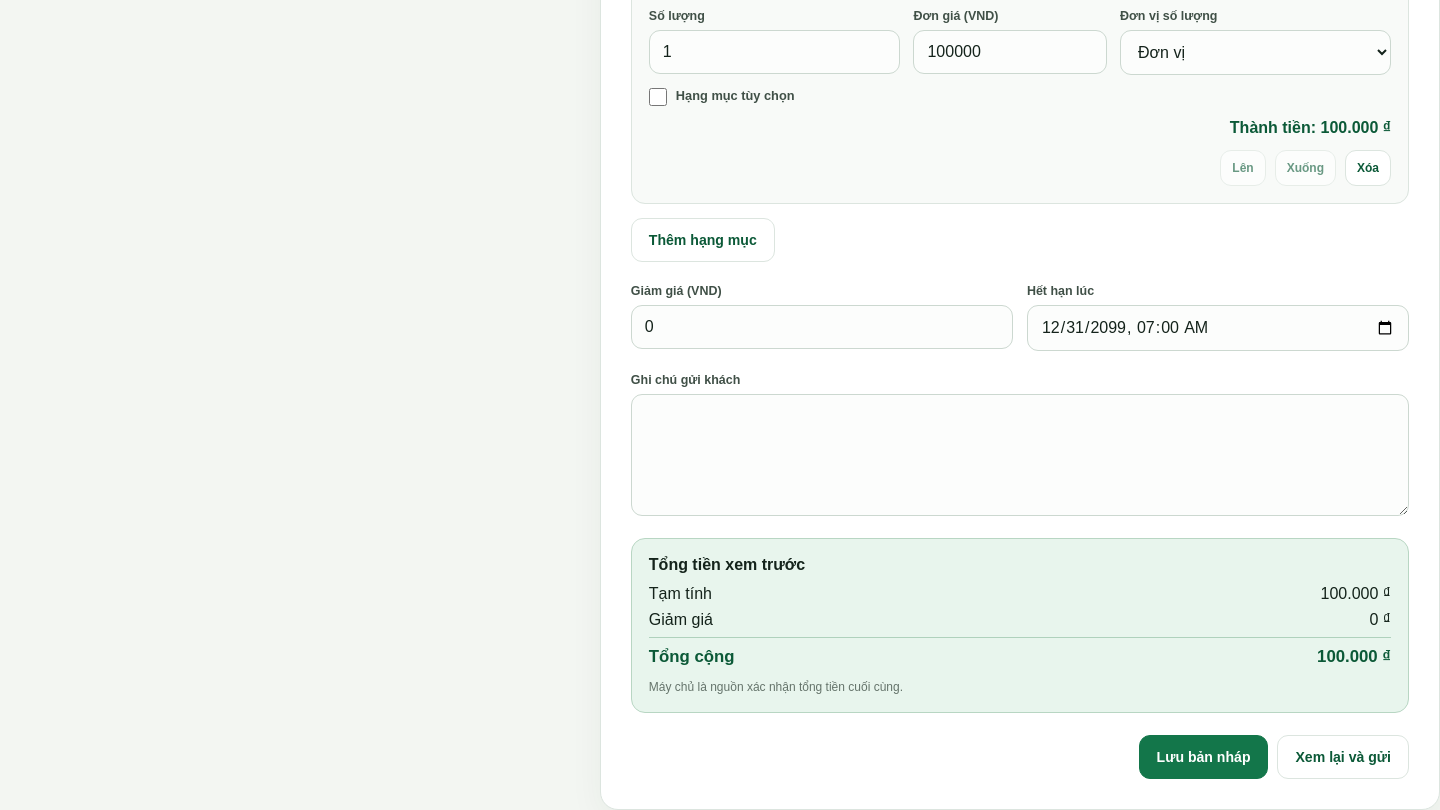
Test case: QuotePanel › clears a prepared send key when confirmation is cancelled
(page scrolled)
Click the button "Xem lại và gửi". click: {"x": 1343, "y": 757}
box: 1278,735 -> 1409,779
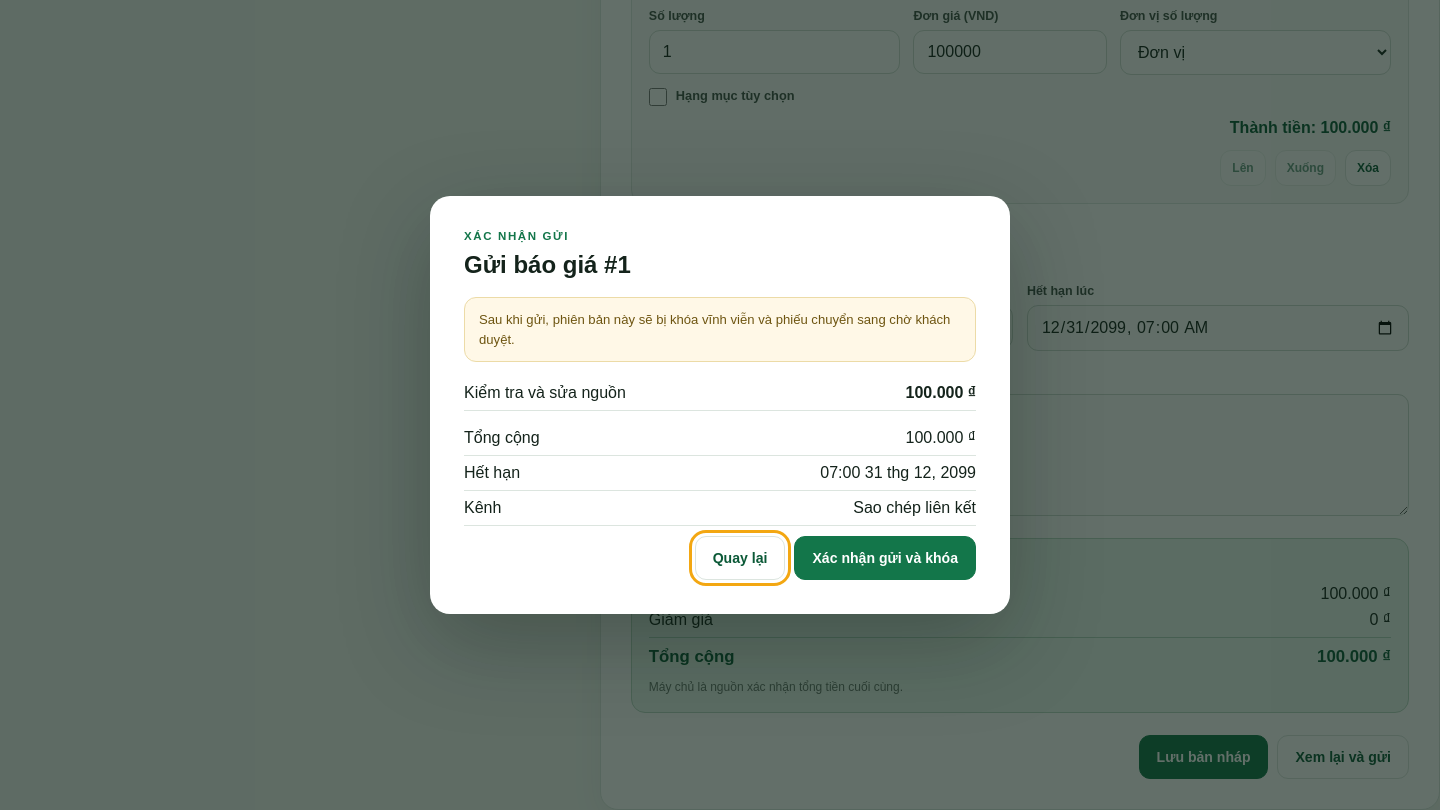
Press Escape in the dialog
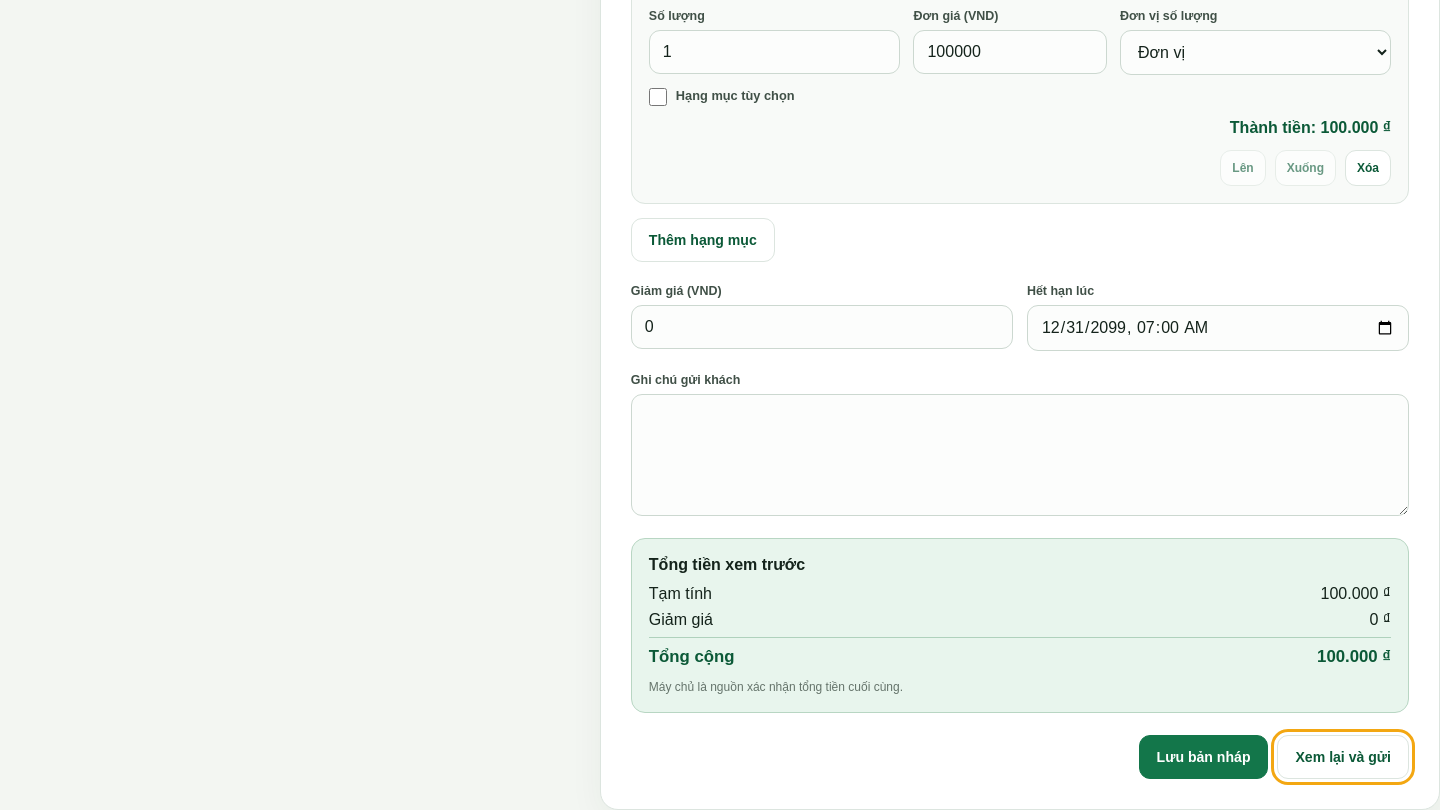
Result: the dialog is gone
Click the button "Xem lại và gửi". click: {"x": 1343, "y": 757}
box: 1278,735 -> 1409,779
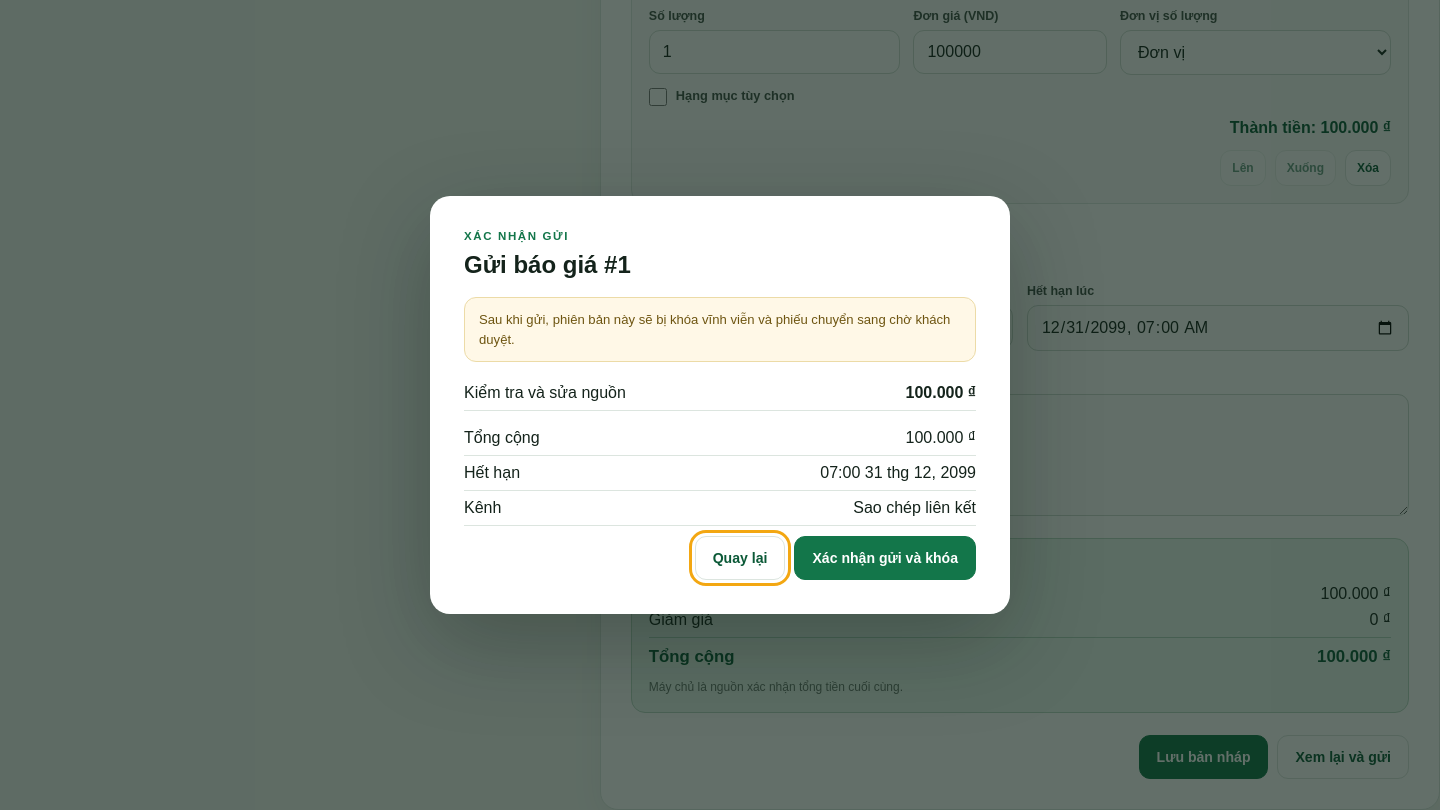
Click the button "Quay lại". click: {"x": 740, "y": 558}
box: 695,536 -> 786,580
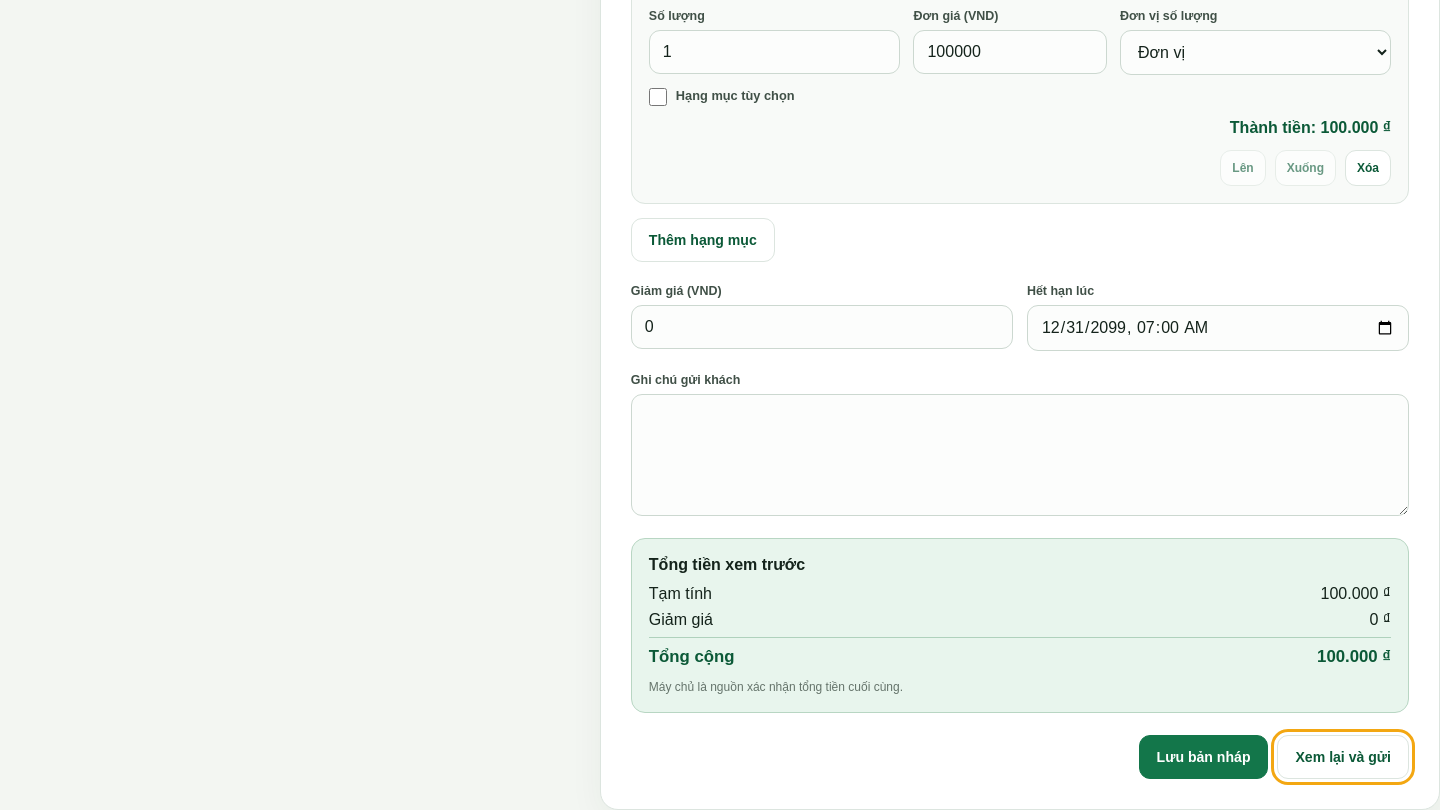
Result: the dialog is gone
